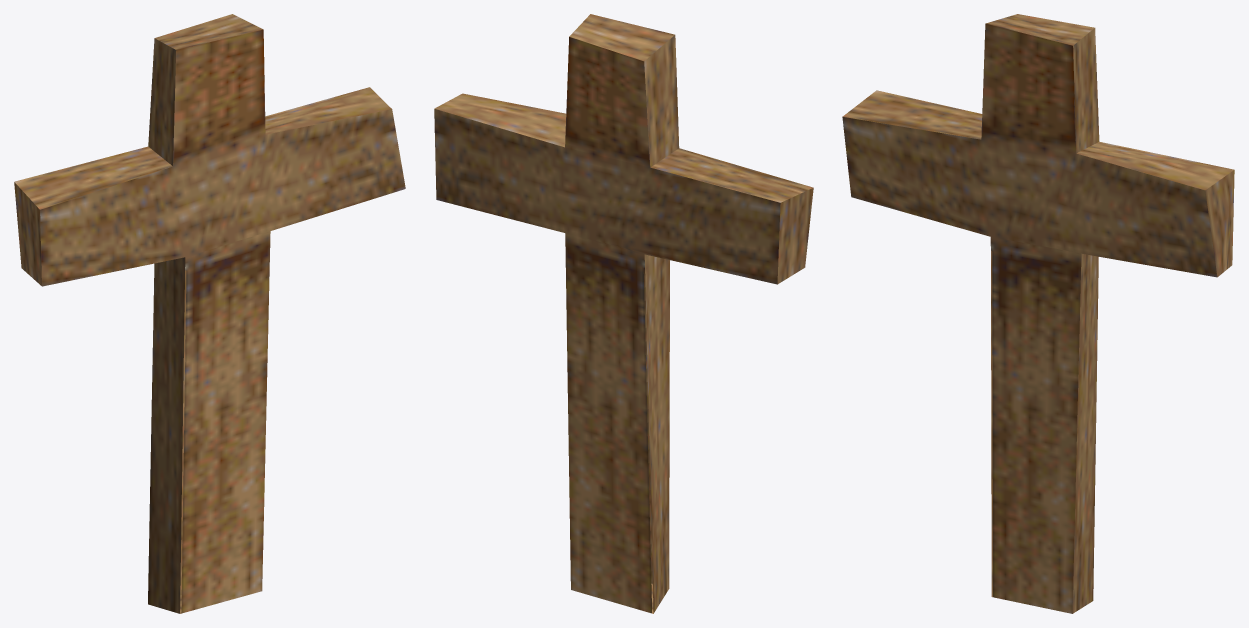
Rendered from Cross.fbx.
3 renders of one model, left to right at view 1: azimuth 30°, elevation 25°; view 2: azimuth 150°, elevation 25°; view 3: azimuth 330°, elevation 25°, orthographic. The views are drawn at different scales.
Visible parts, largest first — view 1: Cross; view 2: Cross; view 3: Cross.
Part boxes in pixels (left/top/right/bottom): Cross: left=14, top=14, right=405, bottom=613; Cross: left=434, top=14, right=813, bottom=613; Cross: left=842, top=14, right=1234, bottom=613.
Size of the model in its own units: 199 by 295 by 27.94.
Materials: 1 (1 with a texture image).
